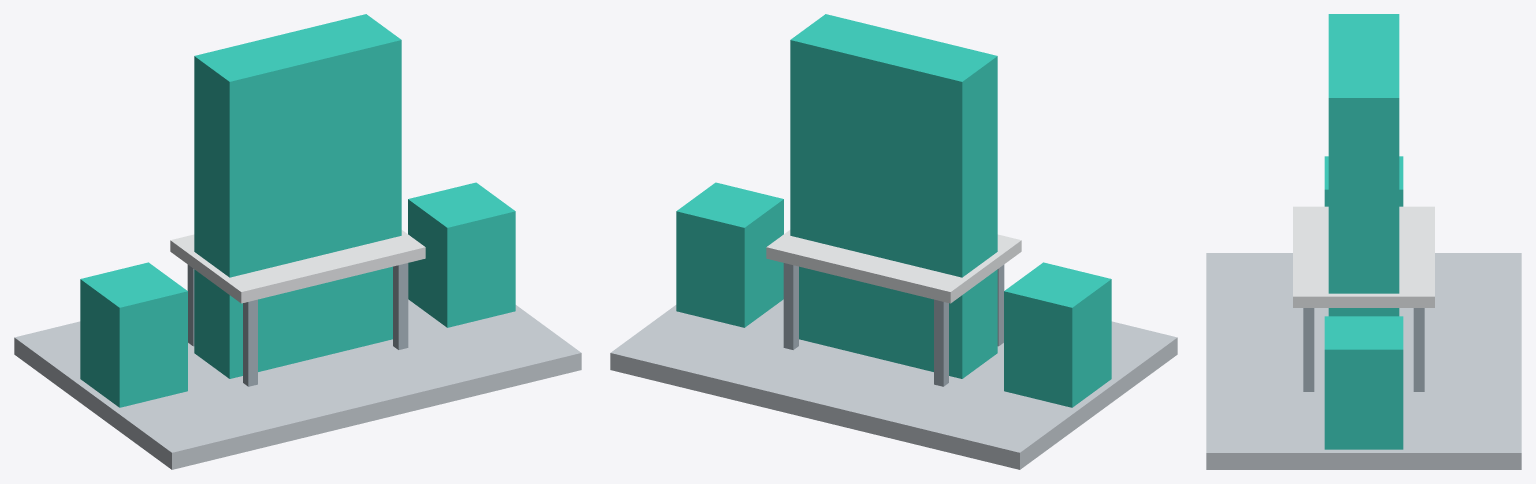
3 views of the same model, side by side, from view 1: azimuth 30°, elevation 25°; view 2: azimuth 150°, elevation 25°; view 3: azimuth 270°, elevation 25° (orthographic).
Visible parts, largest first — view 1: Exhibition Booth Concept; view 2: Exhibition Booth Concept; view 3: Exhibition Booth Concept.
Part boxes in pixels (box(x1,y1,x2,y2)): Exhibition Booth Concept: box(14, 14, 581, 469); Exhibition Booth Concept: box(610, 14, 1177, 469); Exhibition Booth Concept: box(1206, 14, 1521, 469).
Bounding box in the file's own units: 3 × 2.2 × 2.
